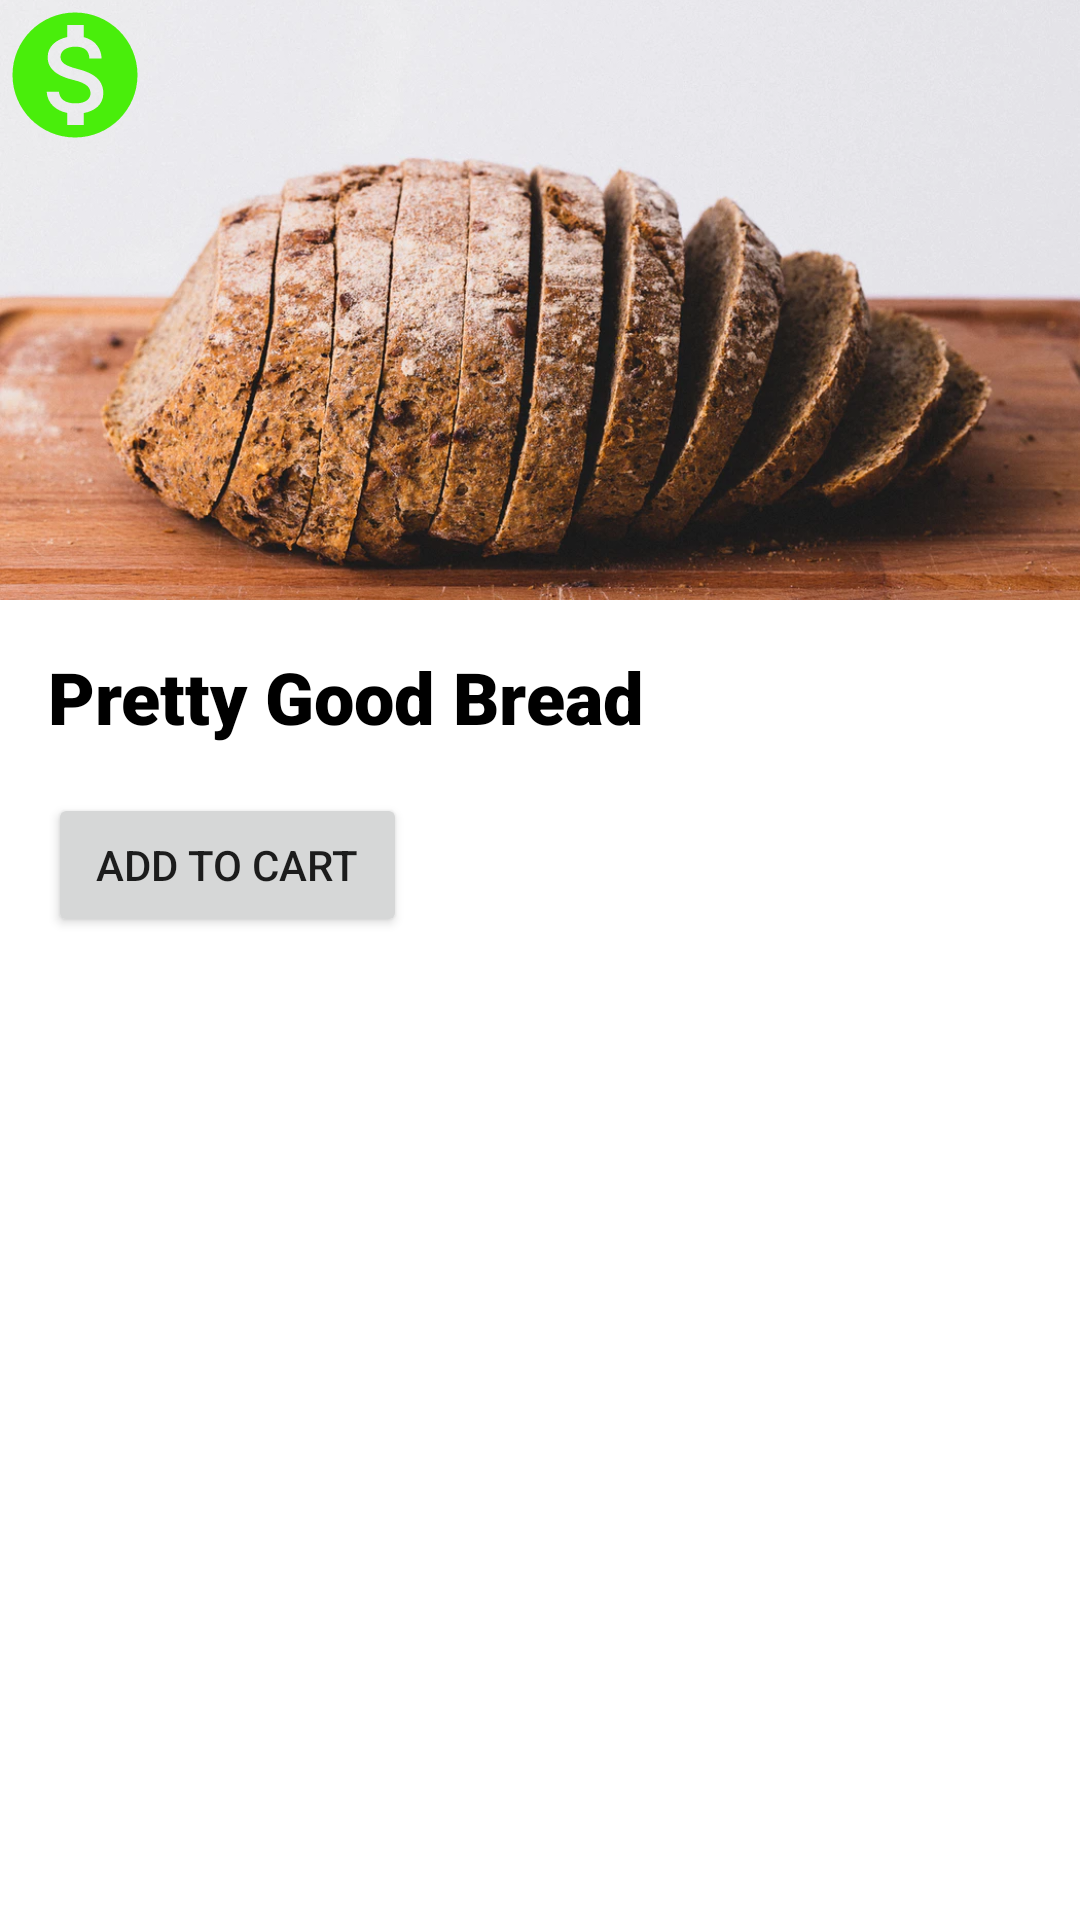

Where icons sit on this 1080 x 1920 app screen, as (x1=x1, y1=y1, x2=x2, y2=y2):
monetization on: (x1=12, y1=12, x2=138, y2=138)
